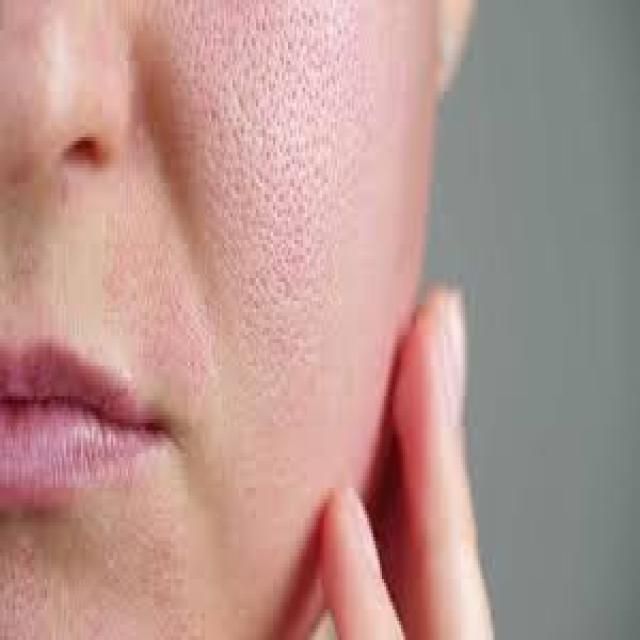pores: (196, 0, 328, 309)
